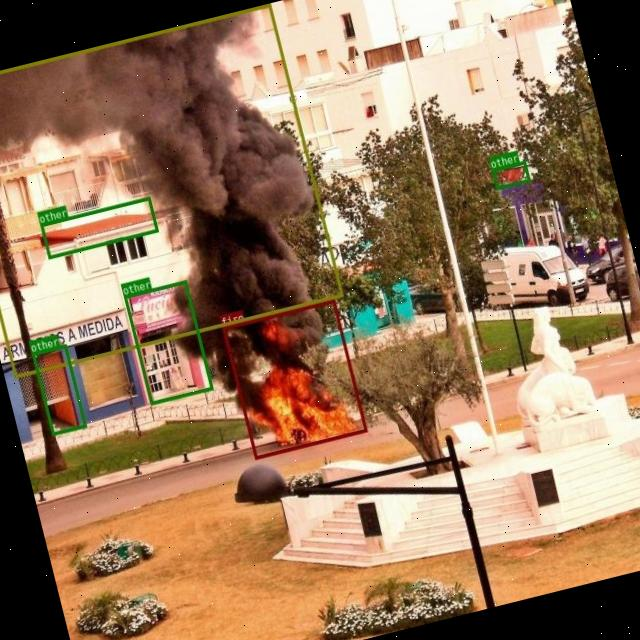fire: (222, 298, 366, 458)
smoke: (0, 3, 342, 377)
